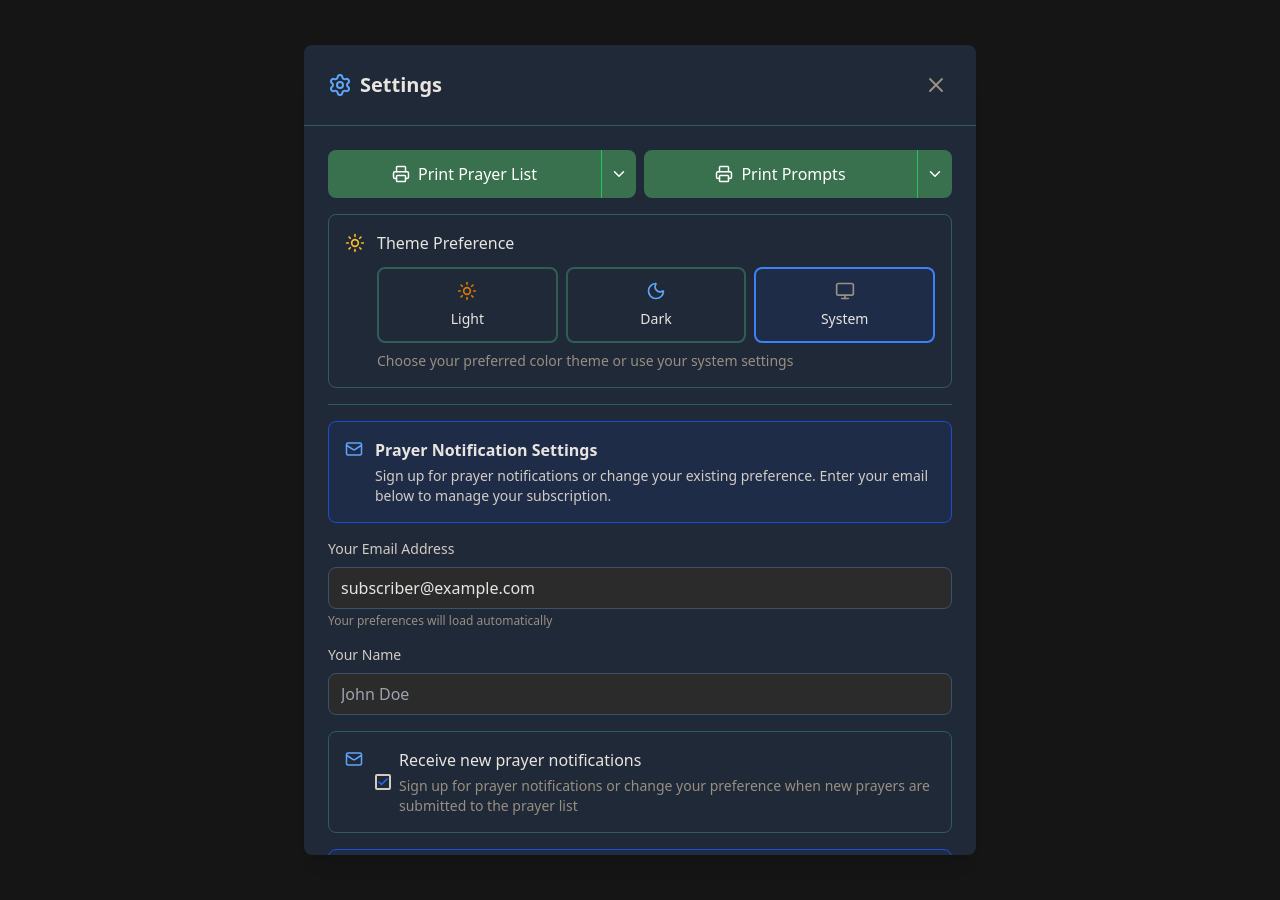
UserSettings › Save Preferences › shows error when name is empty but email is filled
Type "test@example.com" into the field with placeholder "your.email@example.com". click: (640, 588)
box: 328,567 -> 952,609
(page scrolled)
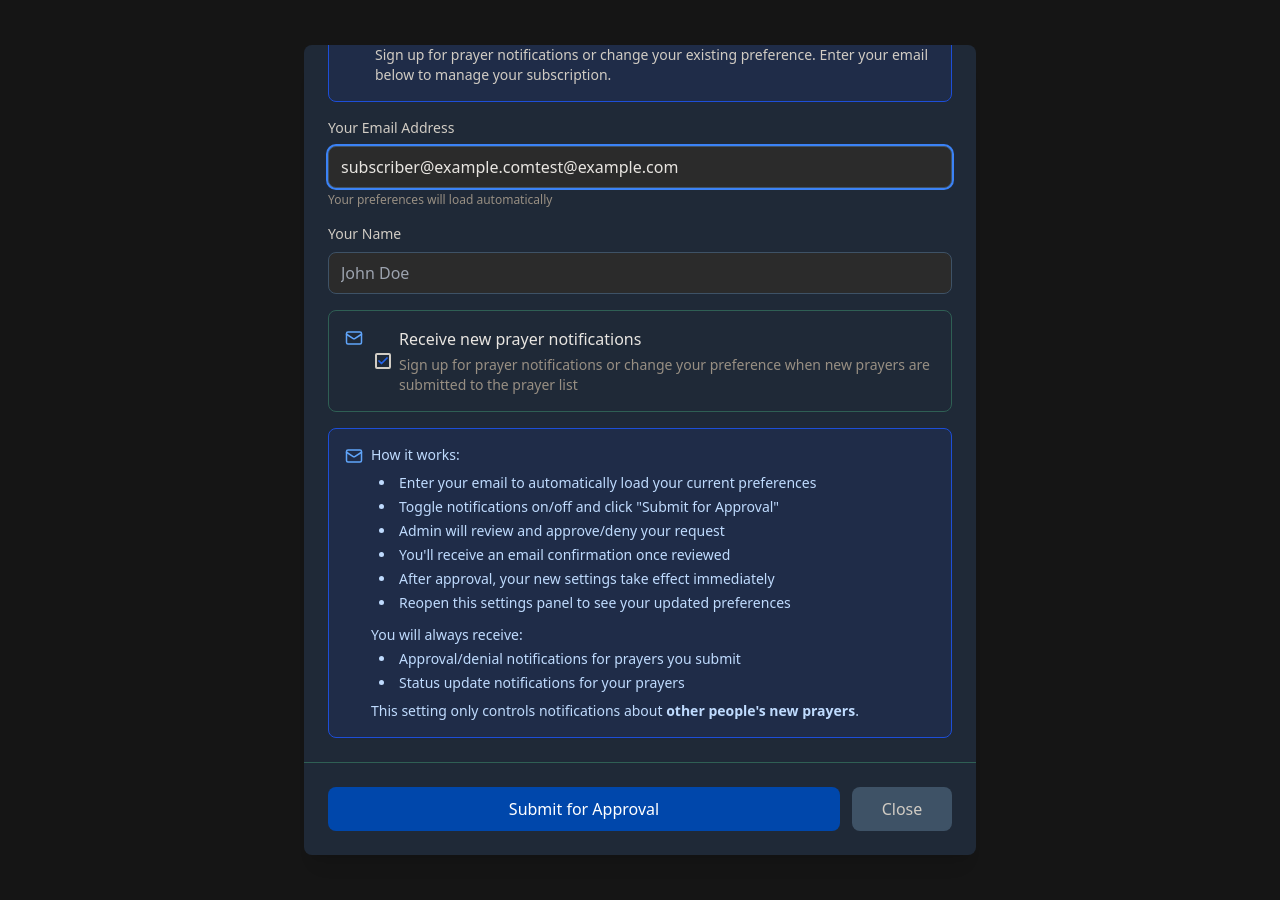
Expected: the button "Submit for Approval" is disabled, 328,787 -> 840,831
